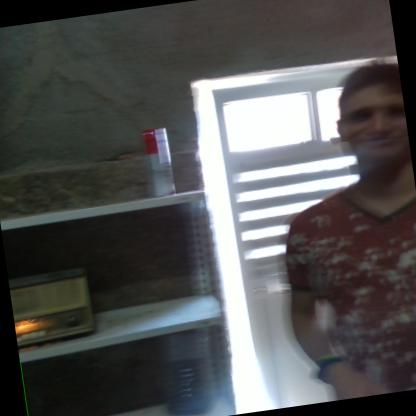closed: (175, 40, 415, 416)
